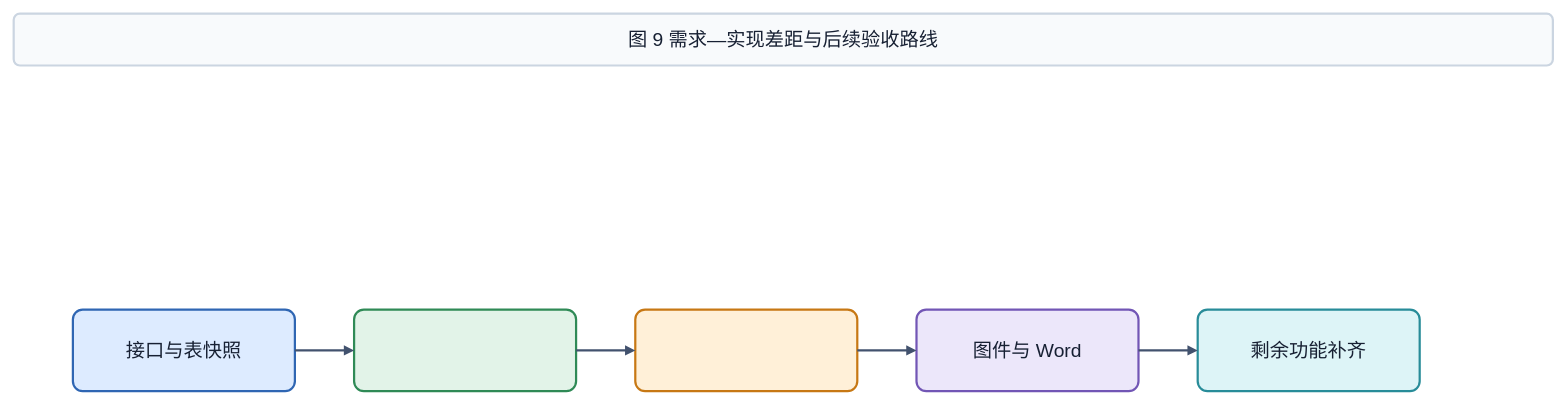
This 1567x405 diagram has some shape labels left out. Here are the shapes that lost their labels. From the top down, the centre of each, then its label:
At (465,350): "边界代码验收".
At (746,350): "页面真实流程".
